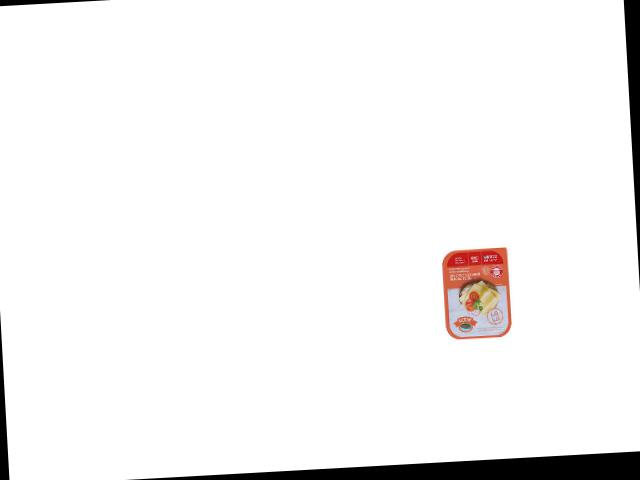cheese: (436, 241, 513, 342)
